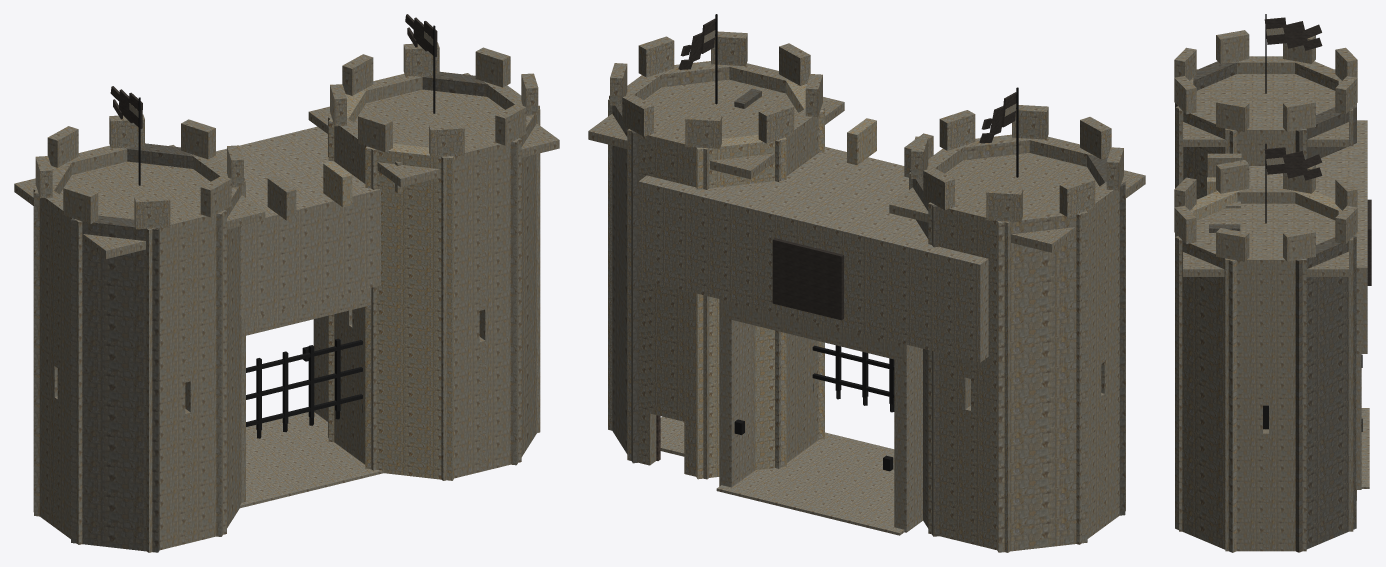
The model's file is prop_hk_gatehouse.glb.
3 renders of one model, left to right at view 1: azimuth 30°, elevation 25°; view 2: azimuth 150°, elevation 25°; view 3: azimuth 270°, elevation 25°, orthographic. The views are drawn at different scales.
Visible parts, largest first — view 1: building_hk_gatehouse; view 2: building_hk_gatehouse; view 3: building_hk_gatehouse.
Boxes of the visible parts, bbox=[...] form: building_hk_gatehouse: bbox=[14, 14, 559, 552]; building_hk_gatehouse: bbox=[588, 14, 1145, 552]; building_hk_gatehouse: bbox=[1174, 14, 1371, 552].
Size of the model in its own units: 23.64 by 19.7 by 9.51.
7 materials, 7 textured.
